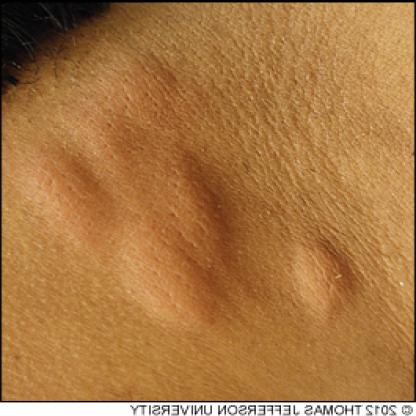Bed Bug: (14, 57, 124, 298), (124, 138, 232, 346), (286, 226, 356, 326), (124, 48, 184, 122)
